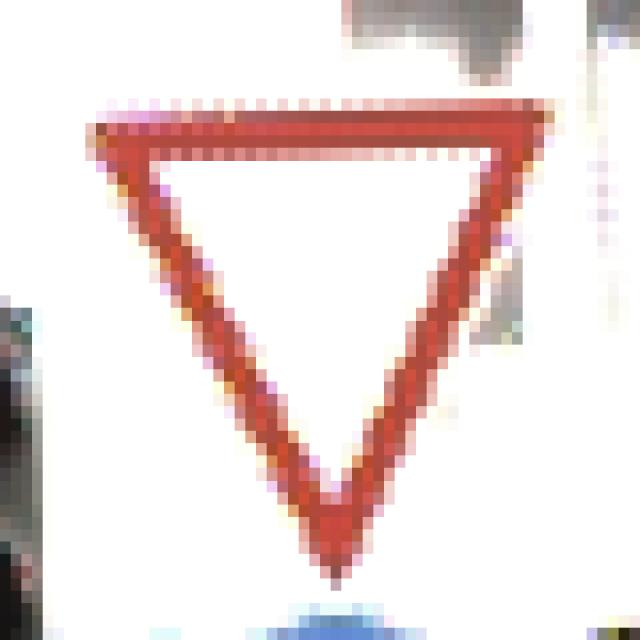Give Way: (65, 75, 588, 579)
